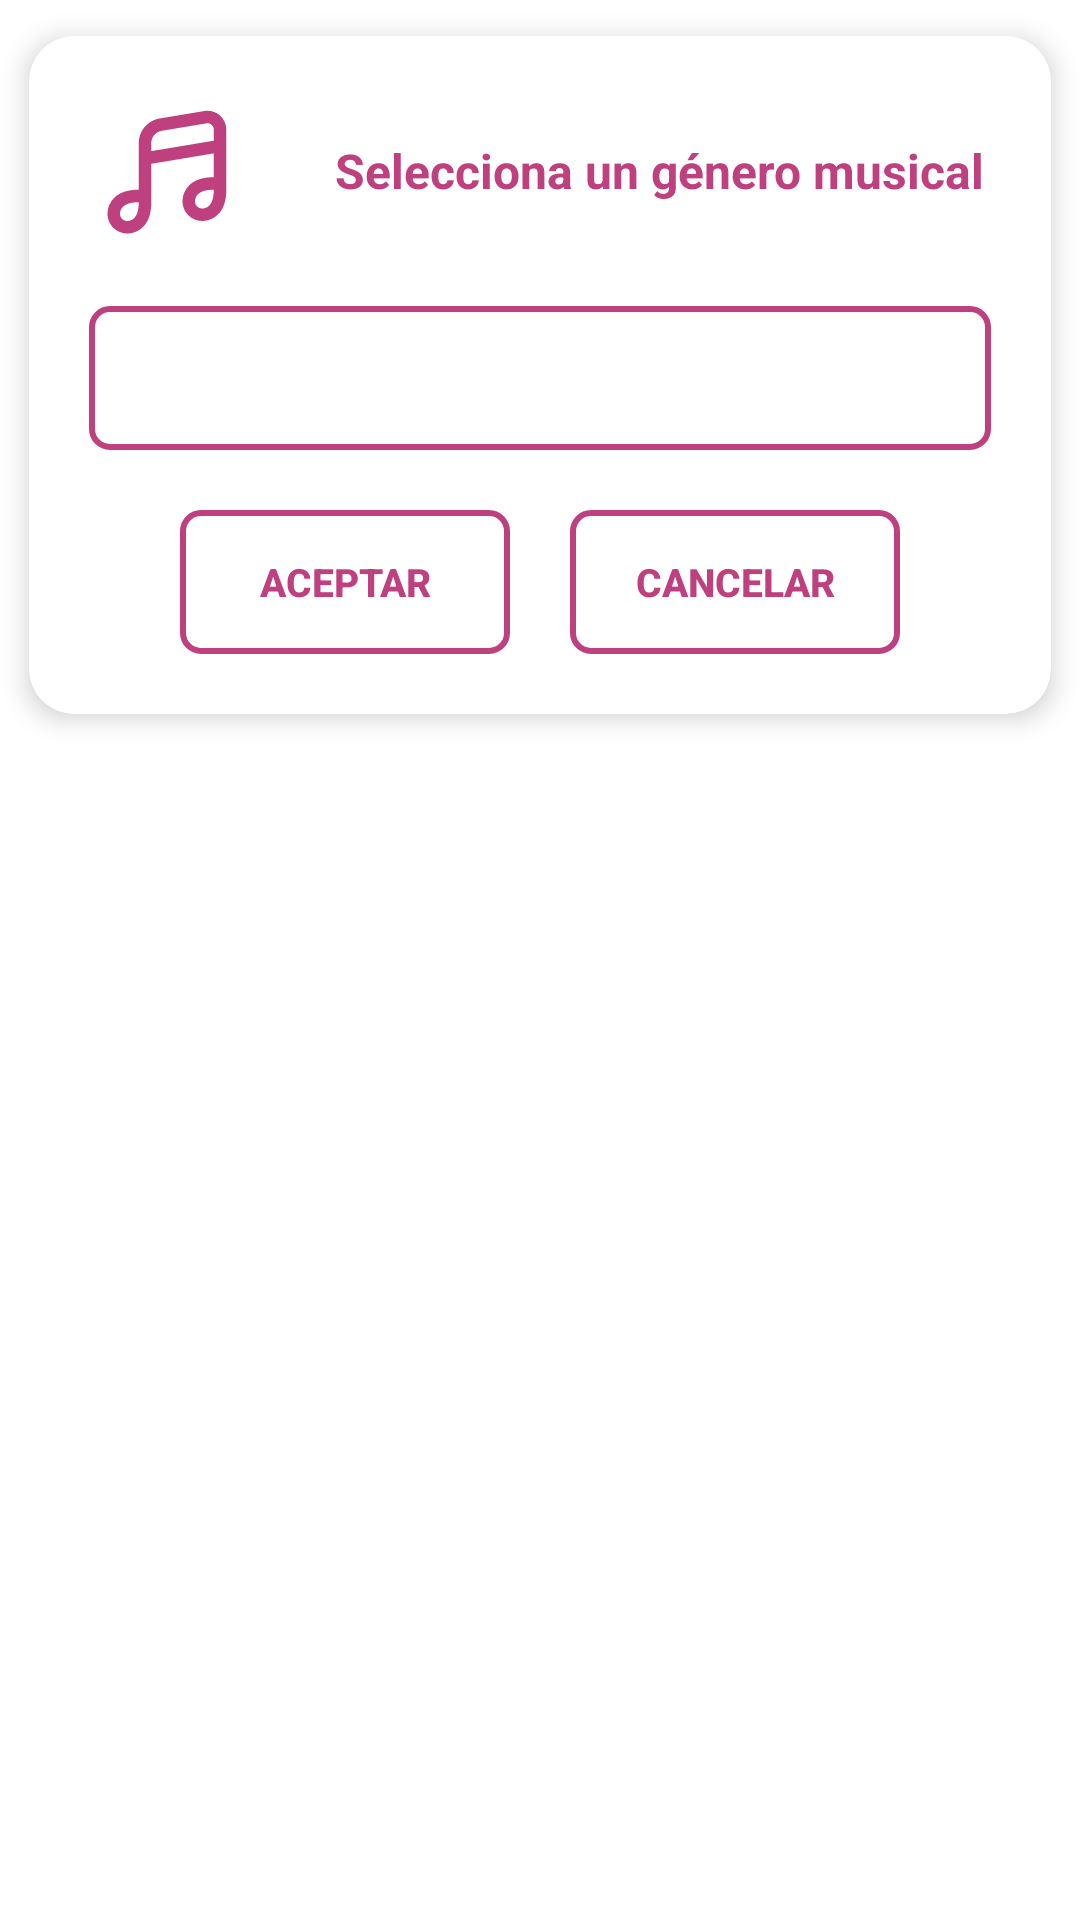

Icon click points for this 1080px×1920px phone screenshot, format [x,y]:
musicnote: [167,172]
